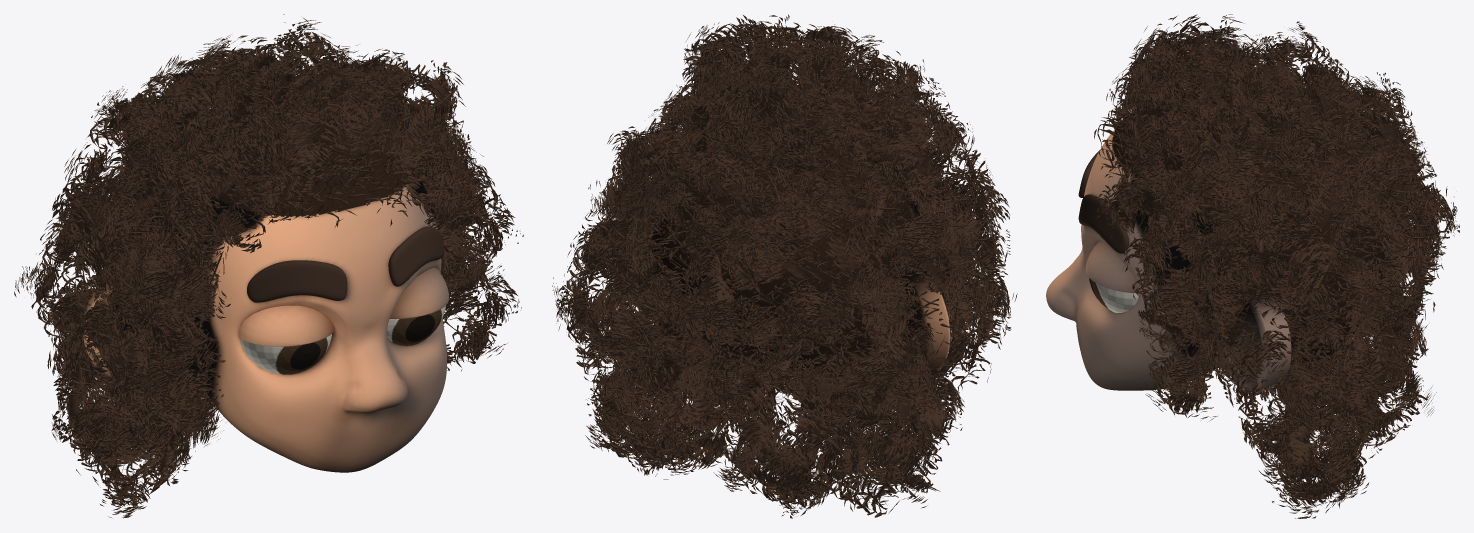
The model's file is clement-tete-light.glb.
The picture shows the model from 3 angles, left to right: view 1: azimuth 30°, elevation 25°; view 2: azimuth 150°, elevation 25°; view 3: azimuth 270°, elevation 25°; orthographic projection. The views are drawn at different scales.
Parts seen in each view (by area): view 1: Cheveux — fibres web, tete, Cheveux — boucles complementaires, sourcils, Paupiere, Cuir chevelu interieur, yeux, oreilles; view 2: Cheveux — fibres web, Cheveux — boucles complementaires, Cuir chevelu interieur, oreilles; view 3: Cheveux — fibres web, Cheveux — boucles complementaires, tete, Cuir chevelu interieur, oreilles, sourcils, Paupiere, yeux.
Part boxes in pixels (<box>): Cheveux — fibres web: <box>14,14,523,518</box>; tete: <box>178,169,446,472</box>; Cheveux — boucles complementaires: <box>31,30,506,508</box>; sourcils: <box>247,226,444,302</box>; Paupiere: <box>238,267,449,346</box>; Cuir chevelu interieur: <box>129,112,410,377</box>; yeux: <box>240,305,445,374</box>; oreilles: <box>83,226,443,380</box>; Cheveux — fibres web: <box>552,14,1017,518</box>; Cheveux — boucles complementaires: <box>566,23,1005,517</box>; Cuir chevelu interieur: <box>649,106,910,376</box>; oreilles: <box>612,238,950,371</box>; Cheveux — fibres web: <box>1094,14,1459,518</box>; Cheveux — boucles complementaires: <box>1088,22,1449,505</box>; tete: <box>1046,129,1220,390</box>; Cuir chevelu interieur: <box>1112,106,1389,366</box>; oreilles: <box>1218,283,1291,390</box>; sourcils: <box>1078,151,1128,253</box>; Paupiere: <box>1085,241,1138,292</box>; yeux: <box>1089,278,1138,313</box>.
Size of the model in its own units: 2.51 by 2.71 by 2.39.
